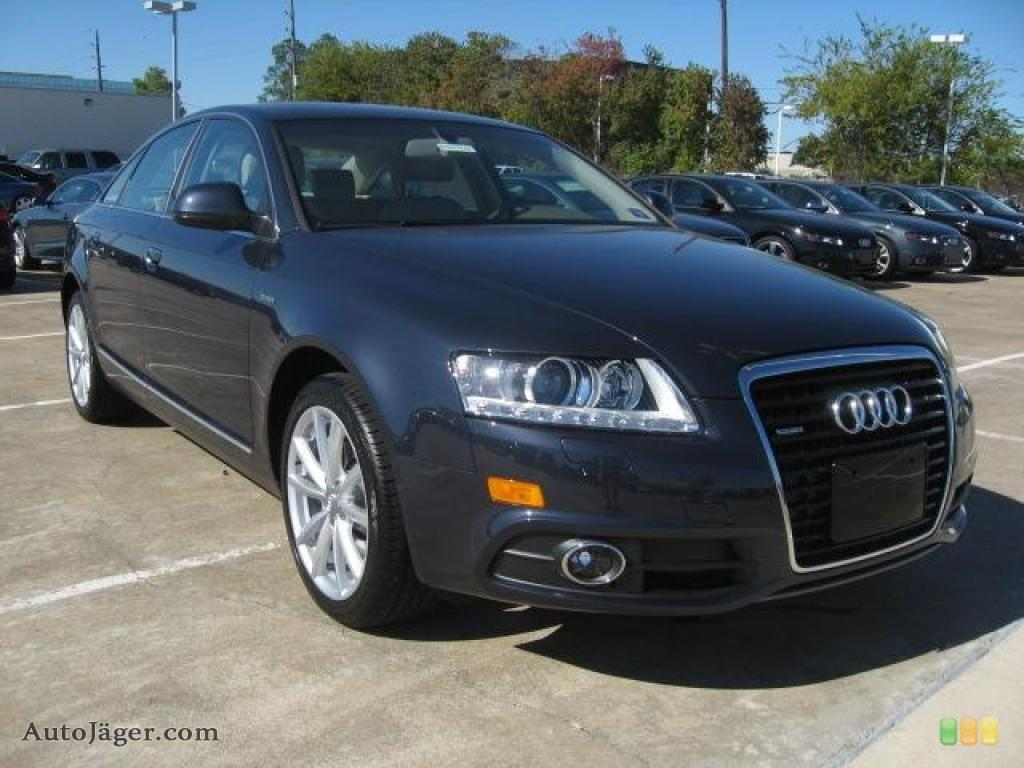Audi: (825, 374, 920, 442)
